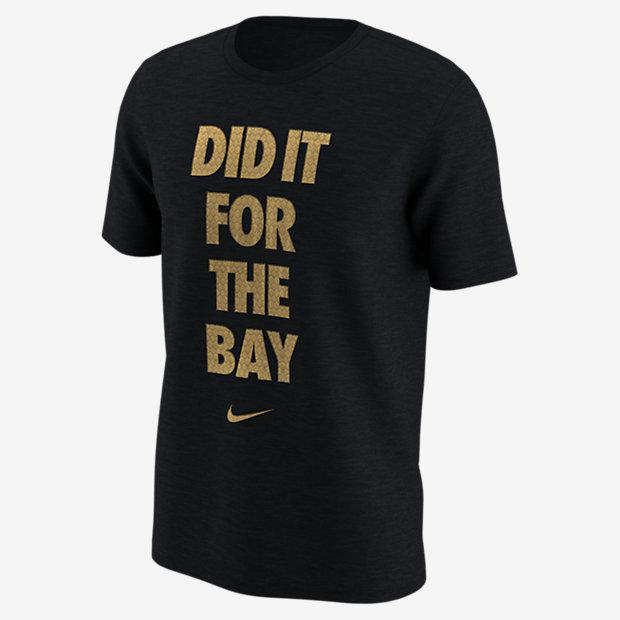teeshirt: (79, 8, 533, 605)
